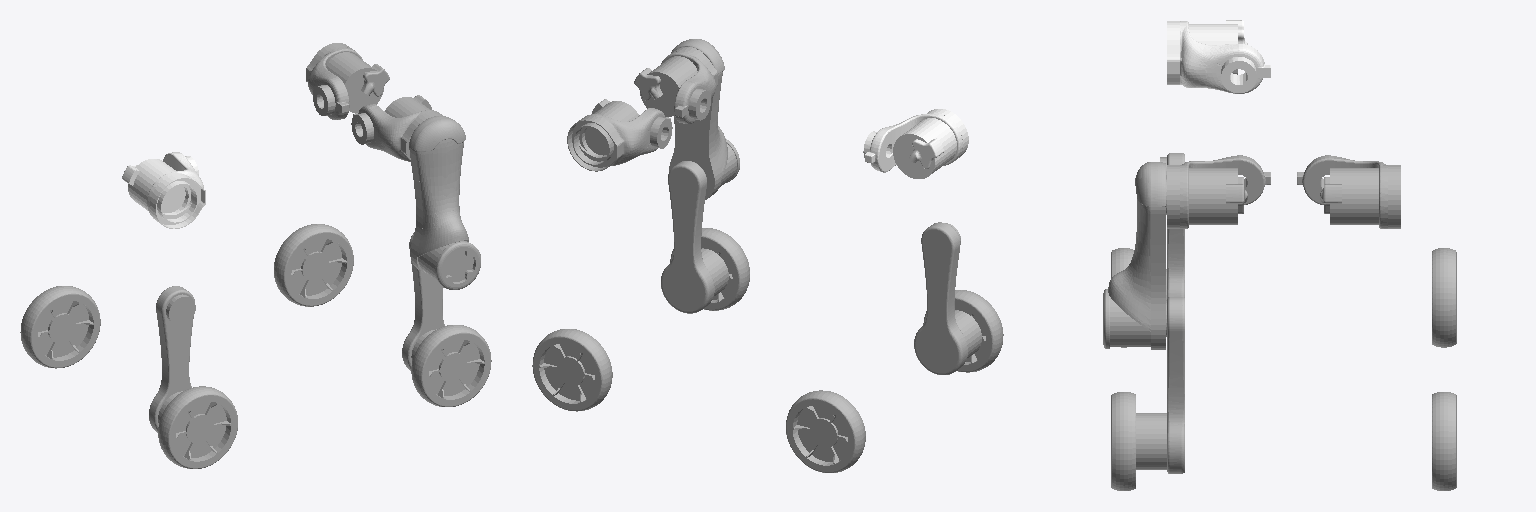
URDF robot description (yun1w):
<?xml version="1.0" encoding="utf-8"?>
<!-- This URDF was automatically created by SolidWorks to URDF Exporter! Originally created by [author] ([email redacted]) 
     Commit Version: 1.6.0-1-g15f4949  Build Version: 1.6.7594.29634
     For more information, please see http://wiki.ros.org/sw_urdf_exporter -->
<robot
  name="yun1w">
  <link
    name="base_link">
    <inertial>
      <origin
        xyz="0.00402764 0.00032815 0.00087318"
        rpy="0 0 0" />
      <mass
        value="2.94983380" />
      <inertia
        ixx="0.00789330"
        ixy="-0.00005628"
        ixz="-0.00001871"
        iyy="0.01760452"
        iyz="-0.00001099"
        izz="0.02231655" />
    </inertial>
    <visual>
      <origin
        xyz="0 0 0"
        rpy="0 0 0" />
      <geometry>
        <mesh
          filename="../meshes/base_link.STL" />
      </geometry>
      <material
        name="">
        <color
          rgba="0.752941176470588 0.752941176470588 0.752941176470588 1" />
      </material>
    </visual>
    <collision>
      <origin
        xyz="0 0 0"
        rpy="0 0 0" />
      <geometry>
        <mesh
          filename="../meshes/base_link.STL" />
      </geometry>
    </collision>
  </link>
  <link
    name="fl_hip_Link">
    <inertial>
      <origin
        xyz="0.05177144 0.02914708 -0.00026472"
        rpy="0 0 0" />
      <mass
        value="0.40515369" />
      <inertia
        ixx="0.00027764"
        ixy="0.00003379"
        ixz="-0.00000162"
        iyy="0.00029039"
        iyz="-0.00000171"
        izz="0.00035095" />
    </inertial>
    <visual>
      <origin
        xyz="0 0 0"
        rpy="0 0 0" />
      <geometry>
        <mesh
          filename="../meshes/fl_hip_Link.STL" />
      </geometry>
      <material
        name="">
        <color
          rgba="0.752941176470588 0.752941176470588 0.752941176470588 1" />
      </material>
    </visual>
    <collision>
      <origin
        xyz="0 0 0"
        rpy="0 0 0" />
      <geometry>
        <mesh
          filename="../meshes/fl_hip_Link.STL" />
      </geometry>
    </collision>
  </link>
  <joint
    name="fl_hip_Joint"
    type="revolute">
    <origin
      xyz="0.1125 0.045 0"
      rpy="0 0 0" />
    <parent
      link="base_link" />
    <child
      link="fl_hip_Link" />
    <axis
      xyz="1 0 0" />
    <limit
      lower="-0.6981"
      upper="0.6981"
      effort="14"
      velocity="17" />
  </joint>
  <link
    name="fl_thigh_Link">
    <inertial>
      <origin
        xyz="-0.00025580 0.04390549 -0.10488615"
        rpy="0 0 0" />
      <mass
        value="0.47143546" />
      <inertia
        ixx="0.00154163"
        ixy="-0.00000072"
        ixz="0.00000364"
        iyy="0.00150625"
        iyz="-0.00020009"
        izz="0.00030011" />
    </inertial>
    <visual>
      <origin
        xyz="0 0 0"
        rpy="0 0 0" />
      <geometry>
        <mesh
          filename="../meshes/fl_thigh_Link.STL" />
      </geometry>
      <material
        name="">
        <color
          rgba="0.75294 0.75294 0.75294 1" />
      </material>
    </visual>
    <collision>
      <origin
        xyz="0 0 0"
        rpy="0 0 0" />
      <geometry>
        <mesh
          filename="../meshes/fl_thigh_Link.STL" />
      </geometry>
    </collision>
  </link>
  <joint
    name="fl_thigh_Joint"
    type="revolute">
    <origin
      xyz="0.0575 0.0525 0"
      rpy="0 0 0" />
    <parent
      link="fl_hip_Link" />
    <child
      link="fl_thigh_Link" />
    <axis
      xyz="0 1 0" />
    <limit
      lower="-2.7925"
      upper="2.7925"
      effort="14"
      velocity="17" />
  </joint>
  <link
    name="fl_calf_Link">
    <inertial>
      <origin
        xyz="-0.00030360 0.00281768 -0.12143078"
        rpy="0 0 0" />
      <mass
        value="0.39687870" />
      <inertia
        ixx="0.00074909"
        ixy="-0.00000056"
        ixz="0.00000168"
        iyy="0.00071049"
        iyz="-0.00009462"
        izz="0.00024487" />
    </inertial>
    <visual>
      <origin
        xyz="0 0 0"
        rpy="0 0 0" />
      <geometry>
        <mesh
          filename="../meshes/fl_calf_Link.STL" />
      </geometry>
      <material
        name="">
        <color
          rgba="0.752941176470588 0.752941176470588 0.752941176470588 1" />
      </material>
    </visual>
    <collision>
      <origin
        xyz="0 0 0"
        rpy="0 0 0" />
      <geometry>
        <mesh
          filename="../meshes/fl_calf_Link.STL" />
      </geometry>
    </collision>
  </link>
  <joint
    name="fl_calf_Joint"
    type="revolute">
    <origin
      xyz="0 0.026 -0.135"
      rpy="0 0 0" />
    <parent
      link="fl_thigh_Link" />
    <child
      link="fl_calf_Link" />
    <axis
      xyz="0 1 0" />
    <limit
      lower="-2.5307"
      upper="2.5307"
      effort="14"
      velocity="17" />
  </joint>
  <link
    name="fl_wheel_Link">
    <inertial>
      <origin
        xyz="0 0.00511076 0"
        rpy="0 0 0" />
      <mass
        value="0.09690000" />
      <inertia
        ixx="0.00007960"
        ixy="0"
        ixz="0"
        iyy="0.00015155"
        iyz="0"
        izz="0.00007960" />
    </inertial>
    <visual>
      <origin
        xyz="0 0 0"
        rpy="0 0 0" />
      <geometry>
        <mesh
          filename="../meshes/fl_wheel_Link.STL" />
      </geometry>
      <material
        name="">
        <color
          rgba="0.752941176470588 0.752941176470588 0.752941176470588 1" />
      </material>
    </visual>
    <collision>
      <origin
        xyz="0 0 0"
        rpy="0 0 0" />
      <geometry>
        <mesh
          filename="../meshes/fl_wheel_Link.STL" />
      </geometry>
    </collision>
  </link>
  <joint
    name="fl_wheel_Joint"
    type="revolute">
    <origin
      xyz="0 0.0315 -0.135"
      rpy="0 0 0" />
    <parent
      link="fl_calf_Link" />
    <child
      link="fl_wheel_Link" />
    <axis
      xyz="0 1 0" />
    <limit
      effort="14"
      velocity="17"
      lower="-999999" 
      upper="999999" />
  </joint>
  <link
    name="fr_hip_Link">
    <inertial>
      <origin
        xyz="0.05146789 -0.02914362 0.00025040"
        rpy="0 0 0" />
      <mass
        value="0.40515117" />
      <inertia
        ixx="0.00027775"
        ixy="-0.00003385"
        ixz="-0.00000036"
        iyy="0.00028903"
        iyz="0.00000184"
        izz="0.00034943" />
    </inertial>
    <visual>
      <origin
        xyz="0 0 0"
        rpy="0 0 0" />
      <geometry>
        <mesh
          filename="../meshes/fr_hip_Link.STL" />
      </geometry>
      <material
        name="">
        <color
          rgba="0.752941176470588 0.752941176470588 0.752941176470588 1" />
      </material>
    </visual>
    <collision>
      <origin
        xyz="0 0 0"
        rpy="0 0 0" />
      <geometry>
        <mesh
          filename="../meshes/fr_hip_Link.STL" />
      </geometry>
    </collision>
  </link>
  <joint
    name="fr_hip_Joint"
    type="revolute">
    <origin
      xyz="0.1125 -0.045 0"
      rpy="0 0 0" />
    <parent
      link="base_link" />
    <child
      link="fr_hip_Link" />
    <axis
      xyz="1 0 0" />
    <limit
      lower="-0.6981"
      upper="0.6981"
      effort="14"
      velocity="17" />
  </joint>
  <link
    name="fr_thigh_Link">
     <inertial>
      <origin
        xyz="0.00025580 -0.04390549 -0.10488615"
        rpy="0 0 0" />
      <mass
        value="0.47143546" />
      <inertia
        ixx="0.00154163"
        ixy="-0.00000072"
        ixz="-0.00000364"
        iyy="0.00150625"
        iyz="0.00020009"
        izz="0.00030011" />
    </inertial>
    <visual>
      <origin
        xyz="0 0 0"
        rpy="0 0 0" />
      <geometry>
        <mesh
          filename="../meshes/fr_thigh_Link.STL" />
      </geometry>
      <material
        name="">
        <color
          rgba="0.75294 0.75294 0.75294 1" />
      </material>
    </visual>
    <collision>
      <origin
        xyz="0 0 0"
        rpy="0 0 0" />
      <geometry>
        <mesh
          filename="../meshes/fr_thigh_Link.STL" />
      </geometry>
    </collision>
  </link>
  <joint
    name="fr_thigh_Joint"
    type="revolute">
    <origin
      xyz="0.0575 -0.0525 0"
      rpy="0 0 0" />
    <parent
      link="fr_hip_Link" />
    <child
      link="fr_thigh_Link" />
    <axis
      xyz="0 1 0" />
    <limit
      lower="-2.7925"
      upper="2.7925"
      effort="14"
      velocity="17" />
  </joint>
  <link
    name="fr_calf_Link">
    <inertial>
      <origin
        xyz="0.00030361 -0.00281768 -0.12143078"
        rpy="0 0 0" />
      <mass
        value="0.39687870" />
      <inertia
        ixx="0.00074909"
        ixy="-0.00000056"
        ixz="-0.00000168"
        iyy="0.00071049"
        iyz="0.00009462"
        izz="0.00024487" />
    </inertial>
    <visual>
      <origin
        xyz="0 0 0"
        rpy="0 0 0" />
      <geometry>
        <mesh
          filename="../meshes/fr_calf_Link.STL" />
      </geometry>
      <material
        name="">
        <color
          rgba="0.752941176470588 0.752941176470588 0.752941176470588 1" />
      </material>
    </visual>
    <collision>
      <origin
        xyz="0 0 0"
        rpy="0 0 0" />
      <geometry>
        <mesh
          filename="../meshes/fr_calf_Link.STL" />
      </geometry>
    </collision>
  </link>
  <joint
    name="fr_calf_Joint"
    type="revolute">
    <origin
      xyz="0 -0.026 -0.135"
      rpy="0 0 0" />
    <parent
      link="fr_thigh_Link" />
    <child
      link="fr_calf_Link" />
    <axis
      xyz="0 1 0" />
    <limit
      lower="-2.5307"
      upper="2.5307"
      effort="14"
      velocity="17" />
  </joint>
  <link
    name="fr_wheel_Link">
    <inertial>
      <origin
        xyz="0 -0.00511076 0"
        rpy="0 0 0" />
      <mass
        value="0.09690000" />
      <inertia
        ixx="0.00007960"
        ixy="0"
        ixz="0"
        iyy="0.00015155"
        iyz="0"
        izz="0.00007960" />
    </inertial>
    <visual>
      <origin
        xyz="0 0 0"
        rpy="0 0 0" />
      <geometry>
        <mesh
          filename="../meshes/fr_wheel_Link.STL" />
      </geometry>
      <material
        name="">
        <color
          rgba="0.752941176470588 0.752941176470588 0.752941176470588 1" />
      </material>
    </visual>
    <collision>
      <origin
        xyz="0 0 0"
        rpy="0 0 0" />
      <geometry>
        <mesh
          filename="../meshes/fr_wheel_Link.STL" />
      </geometry>
    </collision>
  </link>
  <joint
    name="fr_wheel_Joint"
    type="revolute">
    <origin
      xyz="0 -0.0315 -0.135"
      rpy="0 0 0" />
    <parent
      link="fr_calf_Link" />
    <child
      link="fr_wheel_Link" />
    <axis
      xyz="0 1 0" />
    <limit
      effort="14"
      velocity="17" 
      lower="-999999" 
      upper="999999" />
  </joint>
  <link
    name="rl_hip_Link">
    <inertial>
      <origin
        xyz="-0.05146789 0.02914362 0.00025040"
        rpy="0 0 0" />
      <mass
        value="0.40515117" />
      <inertia
        ixx="0.00027775"
        ixy="-0.00003385"
        ixz="0.00000036"
        iyy="0.00028903"
        iyz="-0.00000184"
        izz="0.00034943" />
    </inertial>
    <visual>
      <origin
        xyz="0 0 0"
        rpy="0 0 0" />
      <geometry>
        <mesh
          filename="../meshes/rl_hip_Link.STL" />
      </geometry>
      <material
        name="">
        <color
          rgba="0.752941176470588 0.752941176470588 0.752941176470588 1" />
      </material>
    </visual>
    <collision>
      <origin
        xyz="0 0 0"
        rpy="0 0 0" />
      <geometry>
        <mesh
          filename="../meshes/rl_hip_Link.STL" />
      </geometry>
    </collision>
  </link>
  <joint
    name="rl_hip_Joint"
    type="revolute">
    <origin
      xyz="-0.1125 0.045 0"
      rpy="0 0 0" />
    <parent
      link="base_link" />
    <child
      link="rl_hip_Link" />
    <axis
      xyz="1 0 0" />
    <limit
      lower="-0.6981"
      upper="0.6981"
      effort="14"
      velocity="17" />
  </joint>
  <link
    name="rl_thigh_Link">
     <inertial>
      <origin
        xyz="-0.00025580 0.04390549 -0.10488615"
        rpy="0 0 0" />
      <mass
        value="0.47143546" />
      <inertia
        ixx="0.00154163"
        ixy="-0.00000072"
        ixz="0.00000364"
        iyy="0.00150625"
        iyz="-0.00020009"
        izz="0.00030011" />
    </inertial>
    <visual>
      <origin
        xyz="0 0 0"
        rpy="0 0 0" />
      <geometry>
        <mesh
          filename="../meshes/rl_thigh_Link.STL" />
      </geometry>
      <material
        name="">
        <color
          rgba="0.752941176470588 0.752941176470588 0.752941176470588 1" />
      </material>
    </visual>
    <collision>
      <origin
        xyz="0 0 0"
        rpy="0 0 0" />
      <geometry>
        <mesh
          filename="../meshes/rl_thigh_Link.STL" />
      </geometry>
    </collision>
  </link>
  <joint
    name="rl_thigh_Joint"
    type="revolute">
    <origin
      xyz="-0.0575 0.0525 0"
      rpy="0 0 0" />
    <parent
      link="rl_hip_Link" />
    <child
      link="rl_thigh_Link" />
    <axis
      xyz="0 1 0" />
    <limit
      lower="-2.7925"
      upper="2.7925"
      effort="14"
      velocity="17" />
  </joint>
  <link
    name="rl_calf_Link">
    <inertial>
      <origin
        xyz="-0.00030360 0.00281768 -0.12143078"
        rpy="0 0 0" />
      <mass
        value="0.39687870" />
      <inertia
        ixx="0.00074909"
        ixy="-0.00000056"
        ixz="0.00000168"
        iyy="0.00071049"
        iyz="-0.00009462"
        izz="0.00024487" />
    </inertial>
    <visual>
      <origin
        xyz="0 0 0"
        rpy="0 0 0" />
      <geometry>
        <mesh
          filename="../meshes/rl_calf_Link.STL" />
      </geometry>
      <material
        name="">
        <color
          rgba="0.752941176470588 0.752941176470588 0.752941176470588 1" />
      </material>
    </visual>
    <collision>
      <origin
        xyz="0 0 0"
        rpy="0 0 0" />
      <geometry>
        <mesh
          filename="../meshes/rl_calf_Link.STL" />
      </geometry>
    </collision>
  </link>
  <joint
    name="rl_calf_Joint"
    type="revolute">
    <origin
      xyz="0 0.026 -0.135"
      rpy="0 0 0" />
    <parent
      link="rl_thigh_Link" />
    <child
      link="rl_calf_Link" />
    <axis
      xyz="0 1 0" />
    <limit
      lower="-2.5307"
      upper="2.5307"
      effort="14"
      velocity="17" />
  </joint>
  <link
    name="rl_wheel_Link">
    <inertial>
      <origin
        xyz="0 0.00511076 0"
        rpy="0 0 0" />
      <mass
        value="0.09690000" />
      <inertia
        ixx="0.00007960"
        ixy="0"
        ixz="0"
        iyy="0.00015155"
        iyz="0"
        izz="0.00007960" />
    </inertial>
    <visual>
      <origin
        xyz="0 0 0"
        rpy="0 0 0" />
      <geometry>
        <mesh
          filename="../meshes/rl_wheel_Link.STL" />
      </geometry>
      <material
        name="">
        <color
          rgba="0.752941176470588 0.752941176470588 0.752941176470588 1" />
      </material>
    </visual>
    <collision>
      <origin
        xyz="0 0 0"
        rpy="0 0 0" />
      <geometry>
        <mesh
          filename="../meshes/rl_wheel_Link.STL" />
      </geometry>
    </collision>
  </link>
  <joint
    name="rl_wheel_Joint"
    type="revolute">
    <origin
      xyz="0 0.0315 -0.135"
      rpy="0 0 0" />
    <parent
      link="rl_calf_Link" />
    <child
      link="rl_wheel_Link" />
    <axis
      xyz="0 1 0" />
    <limit
      effort="14"
      velocity="17" 
      lower="-999999" 
      upper="999999" />
  </joint>
  <link
    name="rr_hip_Link">
    <inertial>
      <origin
        xyz="-0.05177144 -0.02914708 -0.00026472"
        rpy="0 0 0" />
      <mass
        value="0.40515369" />
      <inertia
        ixx="0.00027764"
        ixy="0.00003379"
        ixz="0.00000162"
        iyy="0.00029039"
        iyz="0.00000171"
        izz="0.00035095" />
    </inertial>
    <visual>
      <origin
        xyz="0 0 0"
        rpy="0 0 0" />
      <geometry>
        <mesh
          filename="../meshes/rr_hip_Link.STL" />
      </geometry>
      <material
        name="">
        <color
          rgba="1 1 1 1" />
      </material>
    </visual>
    <collision>
      <origin
        xyz="0 0 0"
        rpy="0 0 0" />
      <geometry>
        <mesh
          filename="../meshes/rr_hip_Link.STL" />
      </geometry>
    </collision>
  </link>
  <joint
    name="rr_hip_Joint"
    type="revolute">
    <origin
      xyz="-0.1125 -0.045 0"
      rpy="0 0 0" />
    <parent
      link="base_link" />
    <child
      link="rr_hip_Link" />
    <axis
      xyz="1 0 0" />
    <limit
      lower="-0.6981"
      upper="0.6981"
      effort="14"
      velocity="17" />
  </joint>
  <link
    name="rr_thigh_Link">
    <inertial>
      <origin
        xyz="0.00025580 -0.04390549 -0.10488615"
        rpy="0 0 0" />
      <mass
        value="0.47143546" />
      <inertia
        ixx="0.00154163"
        ixy="-0.00000072"
        ixz="-0.00000364"
        iyy="0.00150625"
        iyz="0.00020009"
        izz="0.00030011" />
    </inertial>
    <visual>
      <origin
        xyz="0 0 0"
        rpy="0 0 0" />
      <geometry>
        <mesh
          filename="../meshes/rr_thigh_Link.STL" />
      </geometry>
      <material
        name="">
        <color
          rgba="0.752941176470588 0.752941176470588 0.752941176470588 1" />
      </material>
    </visual>
    <collision>
      <origin
        xyz="0 0 0"
        rpy="0 0 0" />
      <geometry>
        <mesh
          filename="../meshes/rr_thigh_Link.STL" />
      </geometry>
    </collision>
  </link>
  <joint
    name="rr_thigh_Joint"
    type="revolute">
    <origin
      xyz="-0.0575 -0.0525 0"
      rpy="0 0 0" />
    <parent
      link="rr_hip_Link" />
    <child
      link="rr_thigh_Link" />
    <axis
      xyz="0 1 0" />
    <limit
      lower="-2.7925"
      upper="2.7925"
      effort="14"
      velocity="17" />
  </joint>
  <link
    name="rr_calf_Link">
    <inertial>
      <origin
        xyz="0.00030361 -0.00281768 -0.12143078"
        rpy="0 0 0" />
      <mass
        value="0.39687870" />
      <inertia
        ixx="0.00074909"
        ixy="-0.00000056"
        ixz="-0.00000168"
        iyy="0.00071049"
        iyz="0.00009462"
        izz="0.00024487" />
    </inertial>
    <visual>
      <origin
        xyz="0 0 0"
        rpy="0 0 0" />
      <geometry>
        <mesh
          filename="../meshes/rr_calf_Link.STL" />
      </geometry>
      <material
        name="">
        <color
          rgba="0.752941176470588 0.752941176470588 0.752941176470588 1" />
      </material>
    </visual>
    <collision>
      <origin
        xyz="0 0 0"
        rpy="0 0 0" />
      <geometry>
        <mesh
          filename="../meshes/rr_calf_Link.STL" />
      </geometry>
    </collision>
  </link>
  <joint
    name="rr_calf_Joint"
    type="revolute">
    <origin
      xyz="0 -0.026 -0.135"
      rpy="0 0 0" />
    <parent
      link="rr_thigh_Link" />
    <child
      link="rr_calf_Link" />
    <axis
      xyz="0 1 0" />
    <limit
      lower="-2.5307"
      upper="2.5307"
      effort="14"
      velocity="17" />
  </joint>
  <link
    name="rr_wheel_Link">
    <inertial>
      <origin
        xyz="0 -0.00511076 0"
        rpy="0 0 0" />
      <mass
        value="0.09690000" />
      <inertia
        ixx="0.00007960"
        ixy="0"
        ixz="0"
        iyy="0.00015155"
        iyz="0"
        izz="0.00007960" />
    </inertial>
    <visual>
      <origin
        xyz="0 0 0"
        rpy="0 0 0" />
      <geometry>
        <mesh
          filename="../meshes/rr_wheel_Link.STL" />
      </geometry>
      <material
        name="">
        <color
          rgba="0.752941176470588 0.752941176470588 0.752941176470588 1" />
      </material>
    </visual>
    <collision>
      <origin
        xyz="0 0 0"
        rpy="0 0 0" />
      <geometry>
        <mesh
          filename="../meshes/rr_wheel_Link.STL" />
      </geometry>
    </collision>
  </link>
  <joint
    name="rr_wheel_Joint"
    type="revolute">
    <origin
      xyz="0 -0.0315 -0.135"
      rpy="0 0 0" />
    <parent
      link="rr_calf_Link" />
    <child
      link="rr_wheel_Link" />
    <axis
      xyz="0 1 0" />
    <limit
      effort="14"
      velocity="17" 
      lower="-999999" 
      upper="999999" />
  </joint>
</robot>

--- Render facts (derived) ---
3 views of the same robot in one strip: view 1: azimuth 30°, elevation 25°; view 2: azimuth 150°, elevation 25°; view 3: azimuth 270°, elevation 25° (orthographic).
Robot: yun1w — 17 links, 16 joints (16 revolute); root link base_link; default pose: every joint at zero.
Links seen in each view (by area): view 1: fr_thigh_Link, fl_wheel_Link, rr_wheel_Link, rl_wheel_Link, fr_wheel_Link, rr_hip_Link, fl_hip_Link, rr_calf_Link, fr_hip_Link, fr_calf_Link; view 2: rr_calf_Link, fr_calf_Link, fl_hip_Link, rl_wheel_Link, fl_wheel_Link, rr_hip_Link, fr_hip_Link, fr_thigh_Link, fr_wheel_Link, rr_wheel_Link; view 3: fr_thigh_Link, rr_hip_Link, fl_hip_Link, fr_hip_Link, fr_calf_Link, rl_wheel_Link, fl_wheel_Link, fr_wheel_Link, rr_calf_Link.
Boxes of the visible links, <box> form: fr_thigh_Link: <box>409,116,480,289</box>; fl_wheel_Link: <box>274,224,353,306</box>; rr_wheel_Link: <box>158,386,237,468</box>; rl_wheel_Link: <box>20,286,100,368</box>; fr_wheel_Link: <box>411,325,491,406</box>; rr_hip_Link: <box>122,152,205,228</box>; fl_hip_Link: <box>306,43,389,119</box>; rr_calf_Link: <box>149,286,195,432</box>; fr_hip_Link: <box>351,95,442,161</box>; fr_calf_Link: <box>402,233,444,370</box>; rr_calf_Link: <box>914,222,981,374</box>; fr_calf_Link: <box>661,161,728,313</box>; fl_hip_Link: <box>567,99,672,171</box>; rl_wheel_Link: <box>786,390,865,472</box>; fl_wheel_Link: <box>532,329,612,411</box>; rr_hip_Link: <box>863,109,968,178</box>; fr_hip_Link: <box>634,47,717,123</box>; fr_thigh_Link: <box>669,39,739,199</box>; fr_wheel_Link: <box>670,228,749,310</box>; rr_wheel_Link: <box>923,290,1003,372</box>; fr_thigh_Link: <box>1103,162,1166,349</box>; rr_hip_Link: <box>1167,20,1270,93</box>; fl_hip_Link: <box>1297,155,1400,228</box>; fr_hip_Link: <box>1167,155,1270,228</box>; fr_calf_Link: <box>1136,297,1184,473</box>; rl_wheel_Link: <box>1432,248,1456,347</box>; fl_wheel_Link: <box>1432,392,1456,490</box>; fr_wheel_Link: <box>1111,392,1135,490</box>; rr_calf_Link: <box>1160,153,1184,300</box>.
Bounding box of the posed robot: 0.4398 × 0.353 × 0.355 m (x, y, z).
10 mesh visuals loaded from 17 distinct referenced files (10 binary STL); not drawn: 7 (reference not matched to a file when rendering).
